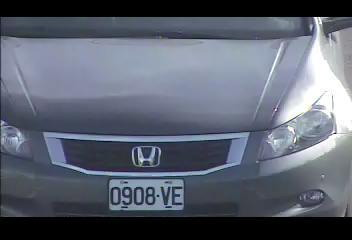plate: (107, 177, 185, 211)
